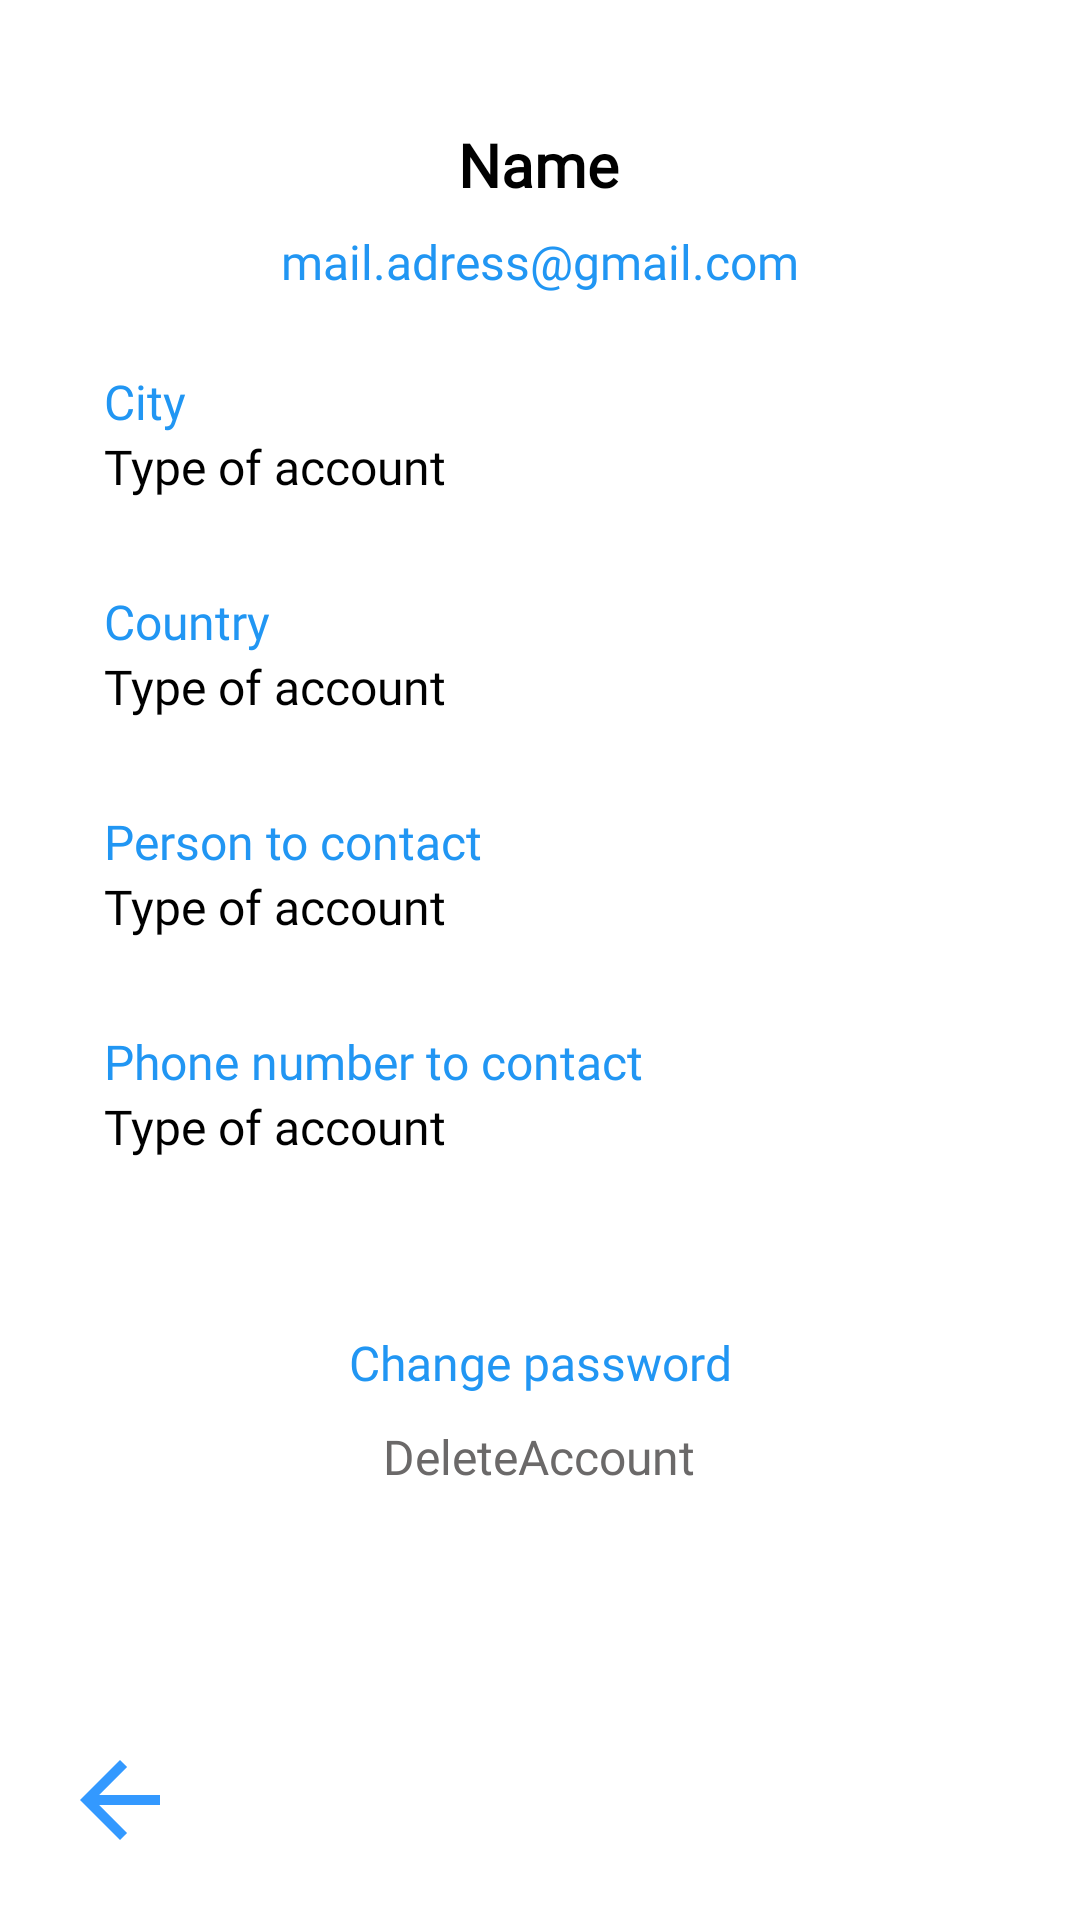

Icons on this 1080px×1920px Android screen, each with its box as bbox(x1, y1, x2, y2):
back: bbox(80, 1760, 160, 1840)
